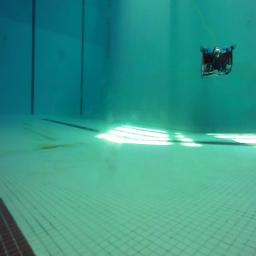front: (200, 44, 236, 76)
